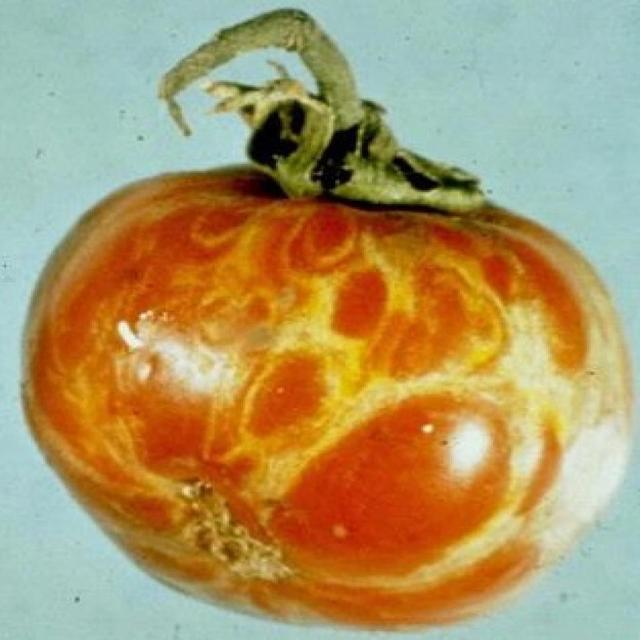Spotted wilt Virus Fruit: (41, 55, 74, 227)
